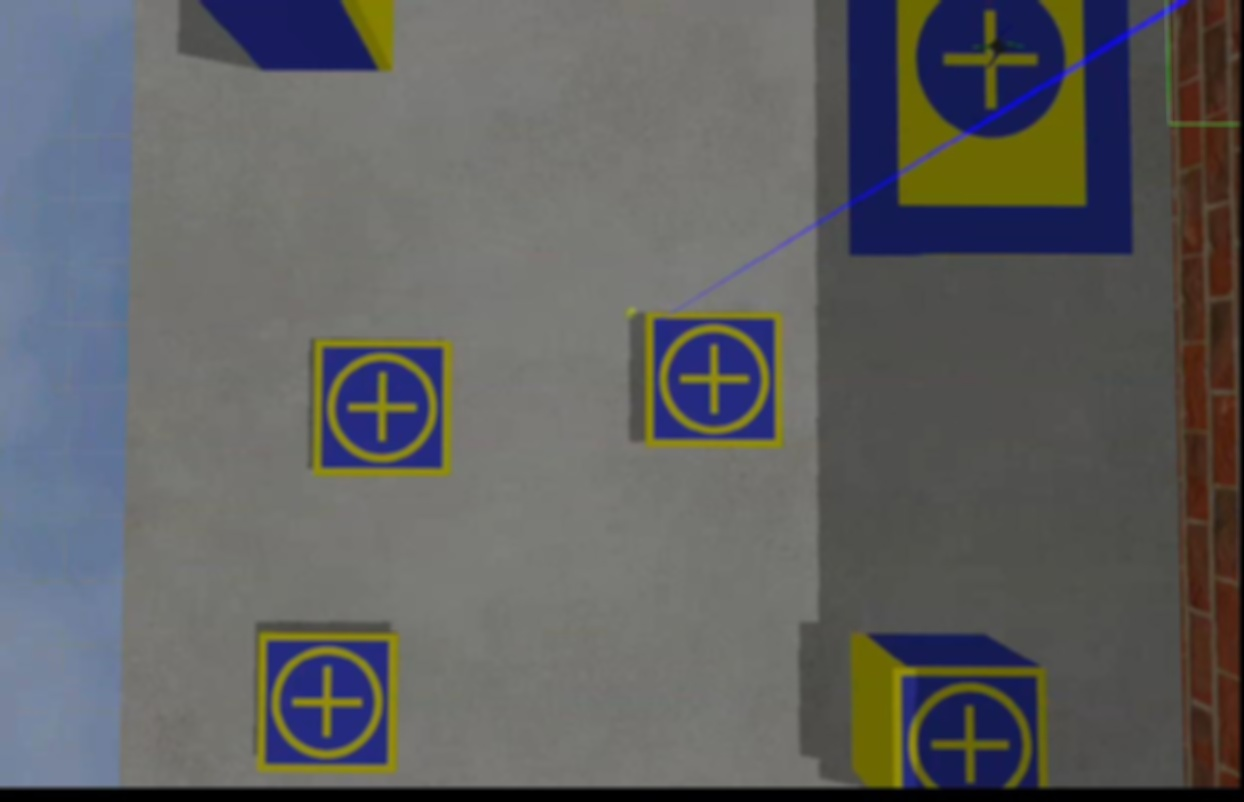large_base: (848, 1, 1137, 259)
small_base: (257, 631, 402, 776), (311, 340, 453, 482), (641, 310, 785, 450), (891, 662, 1043, 791)
